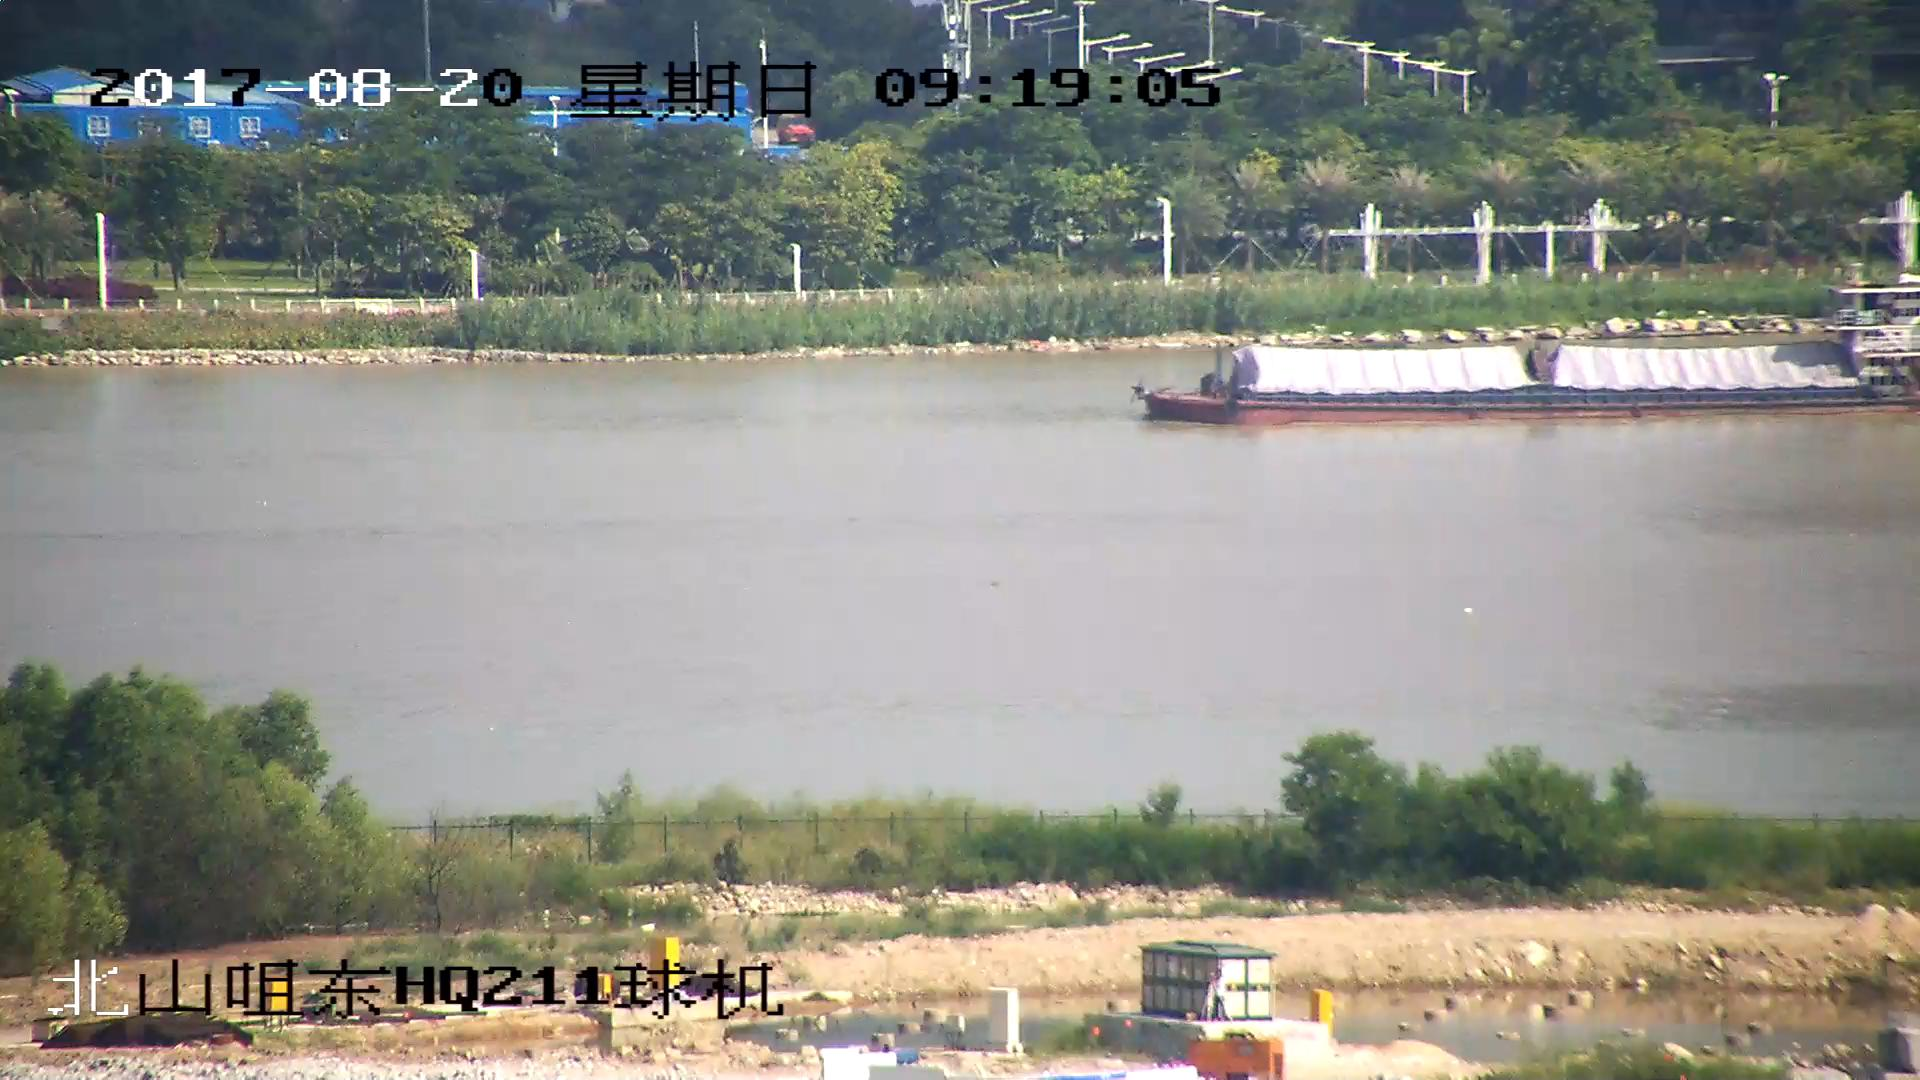general cargo ship: (1139, 294, 1920, 425)
